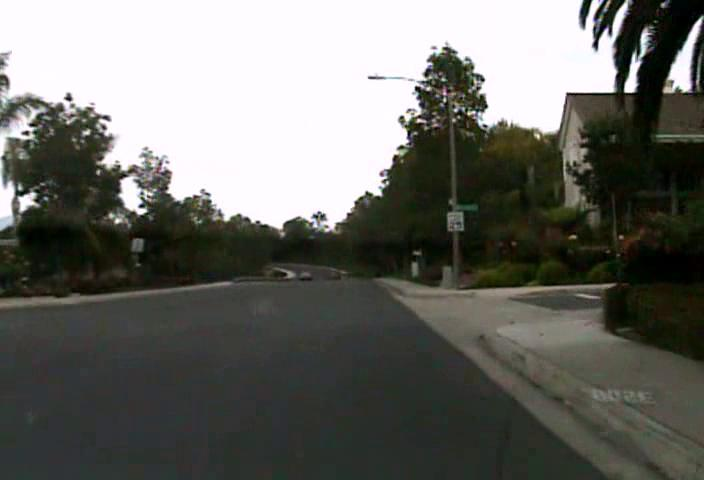speedLimit25: (446, 210, 464, 232)
